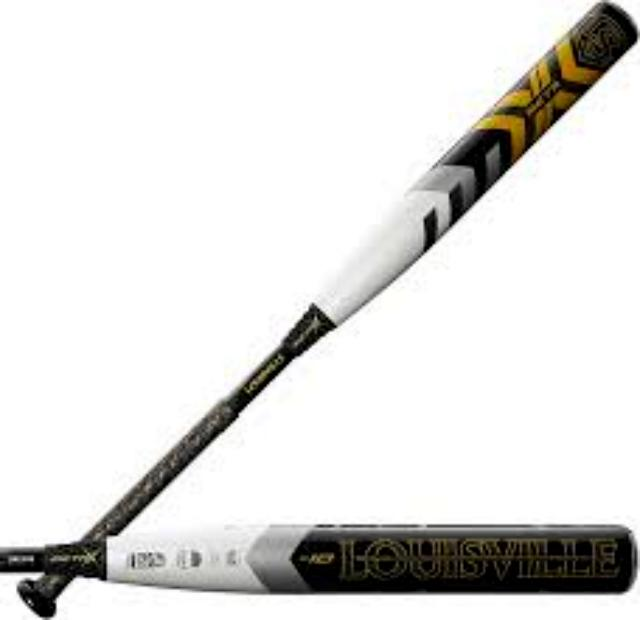baseball bat: (0, 0, 638, 614)
